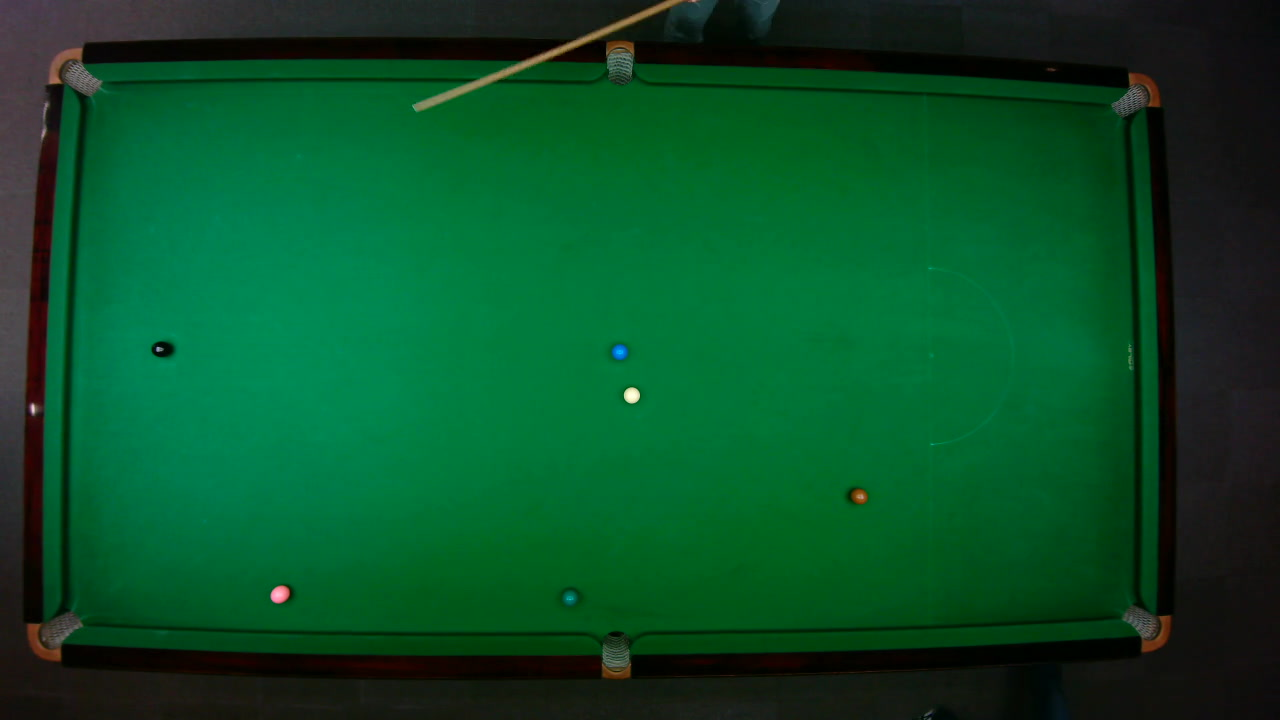bag: (25, 609, 84, 662), (46, 46, 102, 97), (1119, 603, 1171, 652), (1108, 71, 1161, 118), (601, 629, 630, 680), (605, 39, 633, 85)
black: (149, 339, 172, 357)
blue: (610, 342, 628, 360)
brown: (848, 487, 868, 504)
cue: (410, 0, 685, 112)
green: (560, 587, 580, 607)
pink: (268, 583, 291, 604)
white: (622, 385, 641, 404)
zone: (927, 265, 1013, 445)
